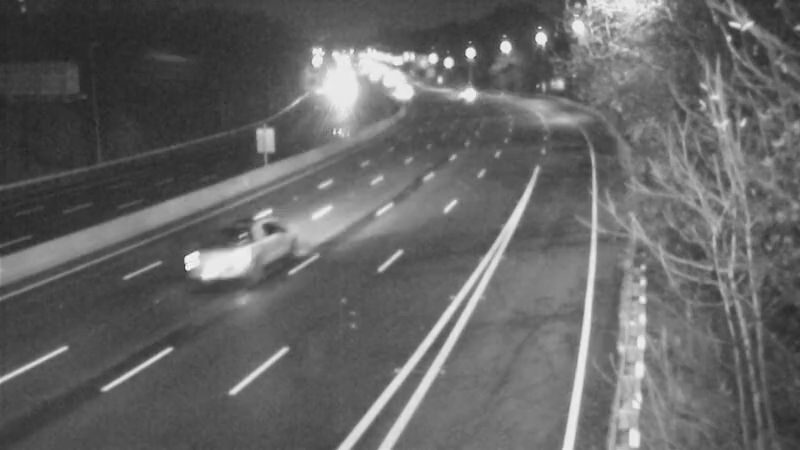vehicle: (183, 215, 263, 295), (438, 70, 488, 120)
